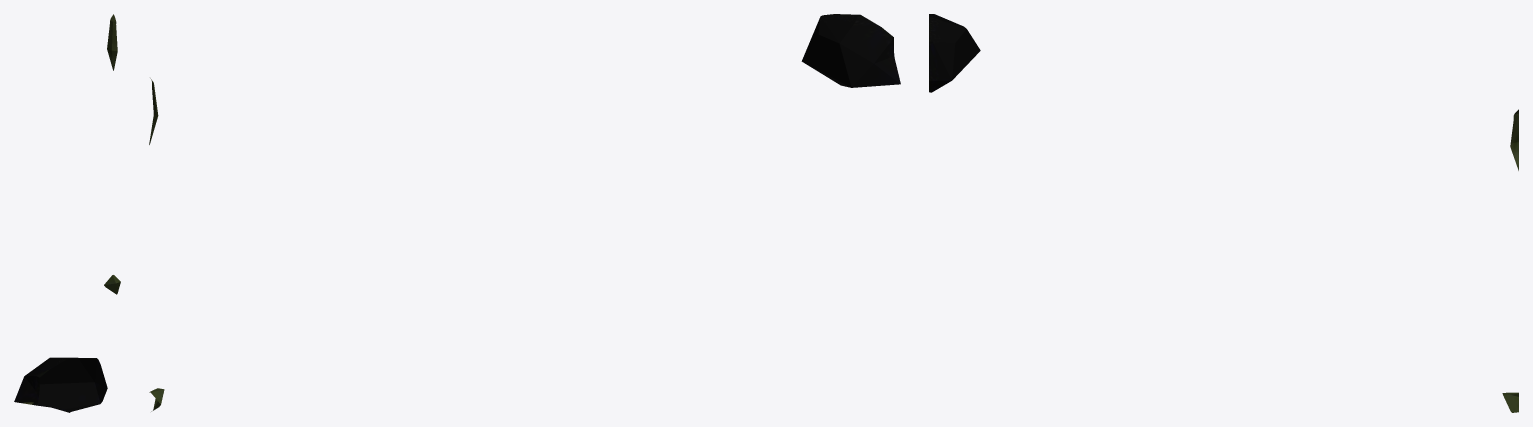
3 views of the same model, side by side, from view 1: azimuth 30°, elevation 25°; view 2: azimuth 150°, elevation 25°; view 3: azimuth 270°, elevation 25° (orthographic). The views are drawn at different scales.
Size of the model in its own units: 2.27 by 1.68 by 2.95.
1 material, 1 textured.
